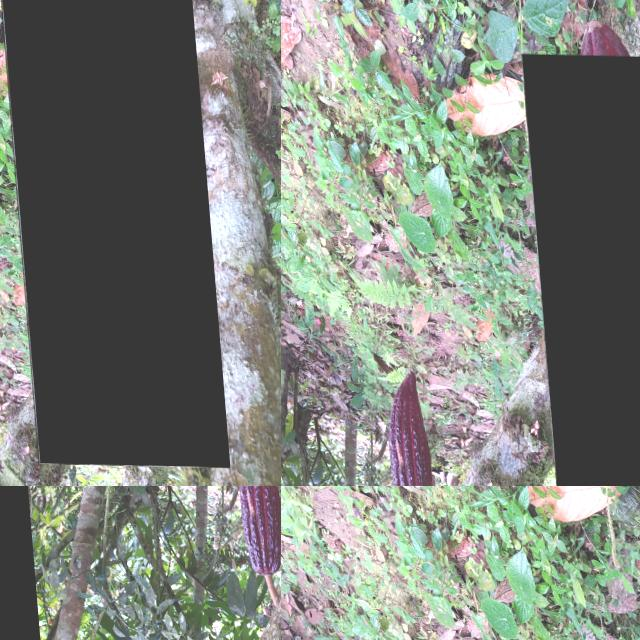Sana: (0, 0, 221, 465), (520, 52, 640, 486)
